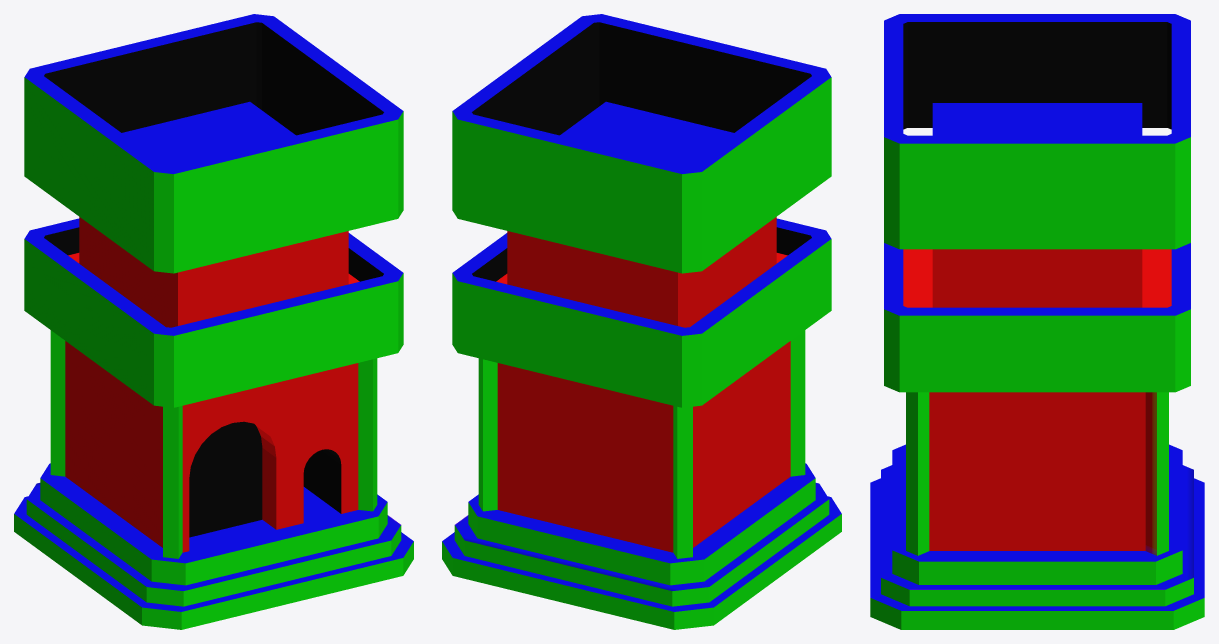
Rendered from testBlock.fbx.
3 renders of one model, left to right at view 1: azimuth 30°, elevation 25°; view 2: azimuth 150°, elevation 25°; view 3: azimuth 270°, elevation 25°, orthographic. The views are drawn at different scales.
Visible parts, largest first — view 1: Cube.028; view 2: Cube.028; view 3: Cube.028.
Part boxes in pixels (bbox=[...]): Cube.028: bbox=[14, 14, 413, 629]; Cube.028: bbox=[442, 14, 841, 629]; Cube.028: bbox=[870, 14, 1204, 629].
Size of the model in its own units: 66.13 by 105 by 66.13.
